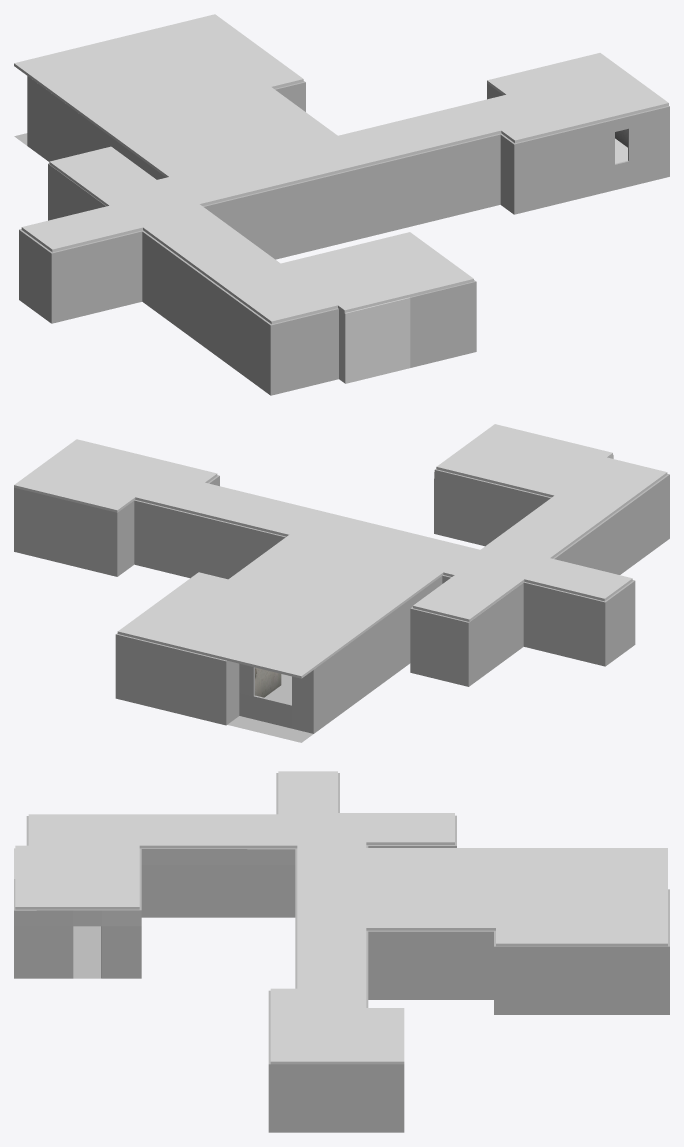
The model's file is 4th Floor_V4.fbx.
The picture shows the model from 3 angles, top to bottom: view 1: azimuth 30°, elevation 25°; view 2: azimuth 150°, elevation 25°; view 3: azimuth 270°, elevation 25°; orthographic projection. The views are drawn at different scales.
Parts seen in each view (by area): view 1: Ceiling, Walls.003; view 2: Ceiling, Walls.003, Floor; view 3: Ceiling, Walls.003, Floor.
Part boxes in pixels (x1,y1,x2,y2): Ceiling: [14, 14, 668, 324]; Walls.003: [19, 76, 669, 395]; Ceiling: [14, 424, 667, 678]; Walls.003: [14, 454, 669, 733]; Floor: [227, 674, 313, 742]; Ceiling: [15, 771, 667, 1064]; Walls.003: [14, 773, 669, 1132]; Floor: [73, 926, 101, 978].
Size of the model in its own units: 2379 by 270 by 2265.
